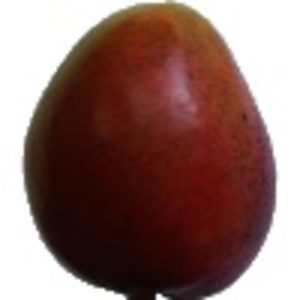manga: (23, 1, 277, 300)
